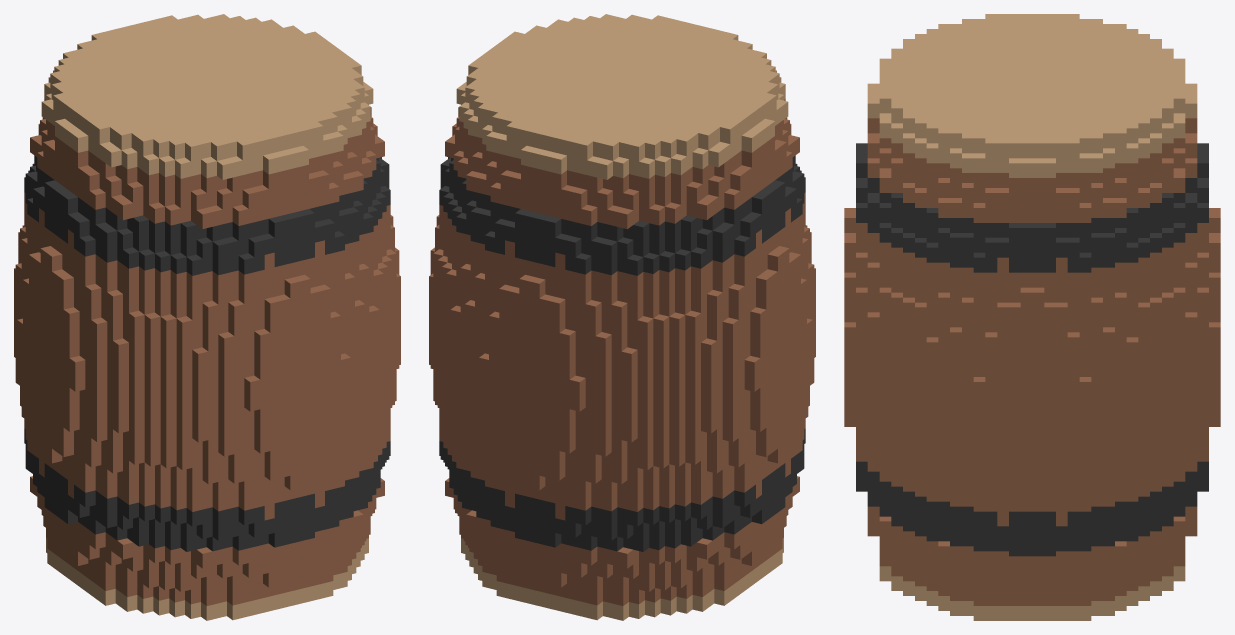
Rendered from ladder_32.glb.
3 views of the same model, side by side, from view 1: azimuth 30°, elevation 25°; view 2: azimuth 150°, elevation 25°; view 3: azimuth 270°, elevation 25° (orthographic).
Visible parts, largest first — view 1: barrel; view 2: barrel; view 3: barrel.
Part boxes in pixels (bbox=[...]): barrel: bbox=[14, 14, 400, 620]; barrel: bbox=[429, 14, 815, 620]; barrel: bbox=[844, 14, 1220, 620].
Bounding box in the file's own units: 1 × 1.4 × 1.
